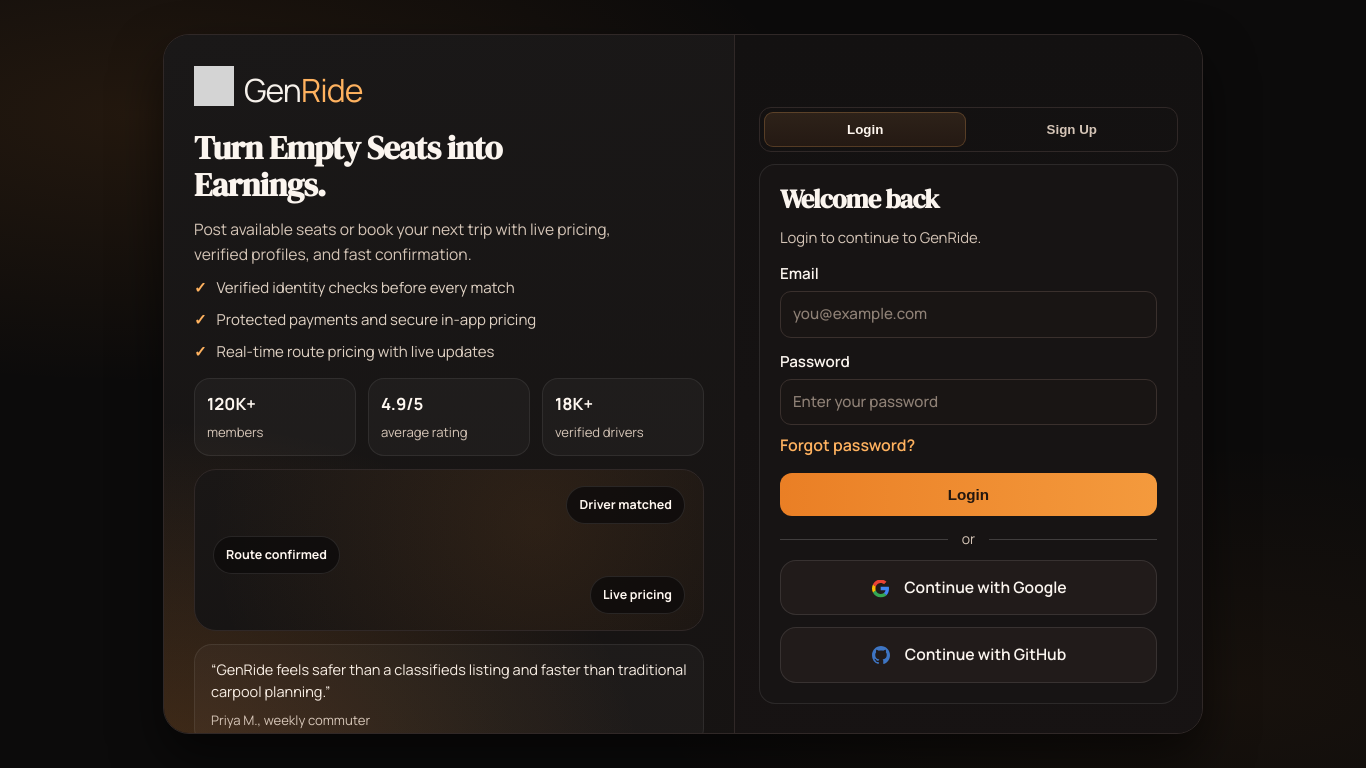
Scenario: App auth screen › switches to signup tab and shows full name field
Click the tab "Sign Up".
click(1072, 130)  # box top-left (970, 112), bottom-right (1173, 147)
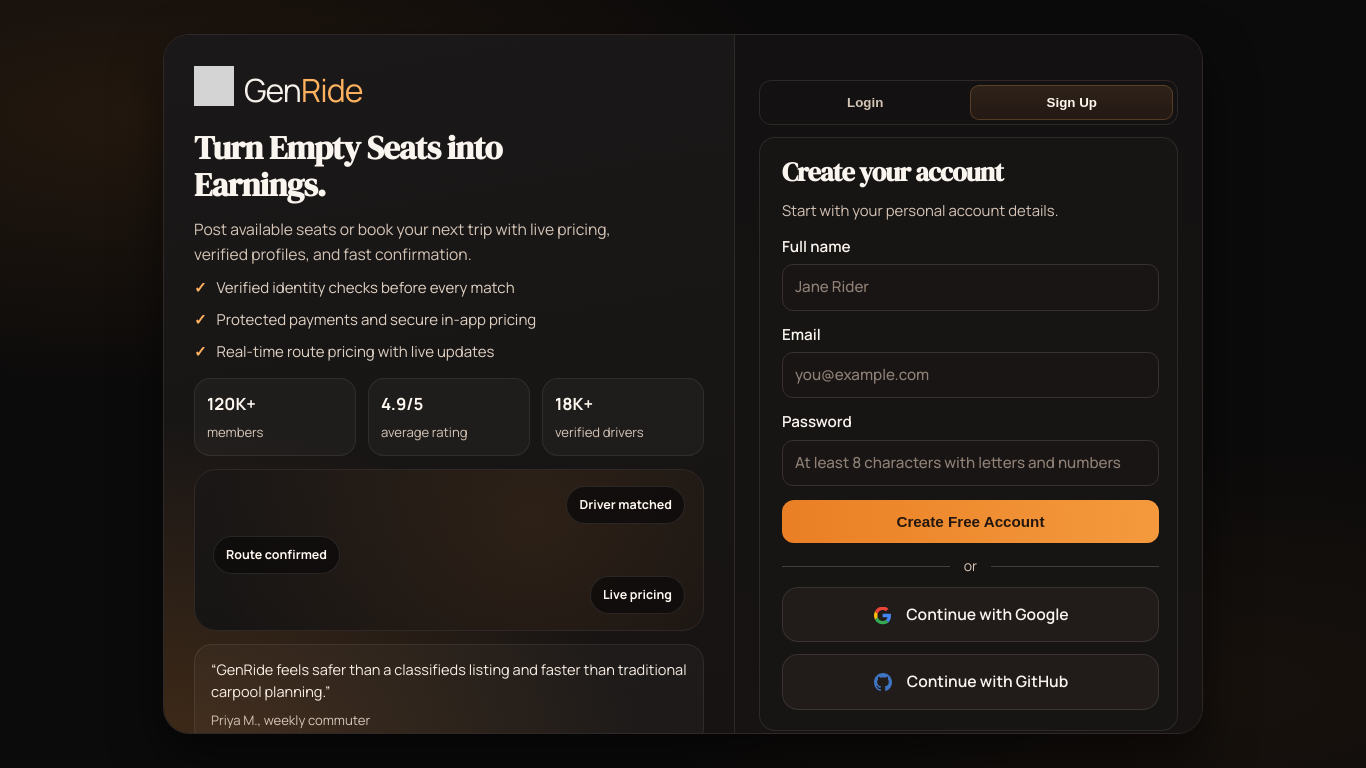
Expected: the field labelled "Full name" is shown, top-left (782, 264), bottom-right (1159, 311)
Expected: the button "Create Free Account" is shown, top-left (782, 500), bottom-right (1159, 543)
